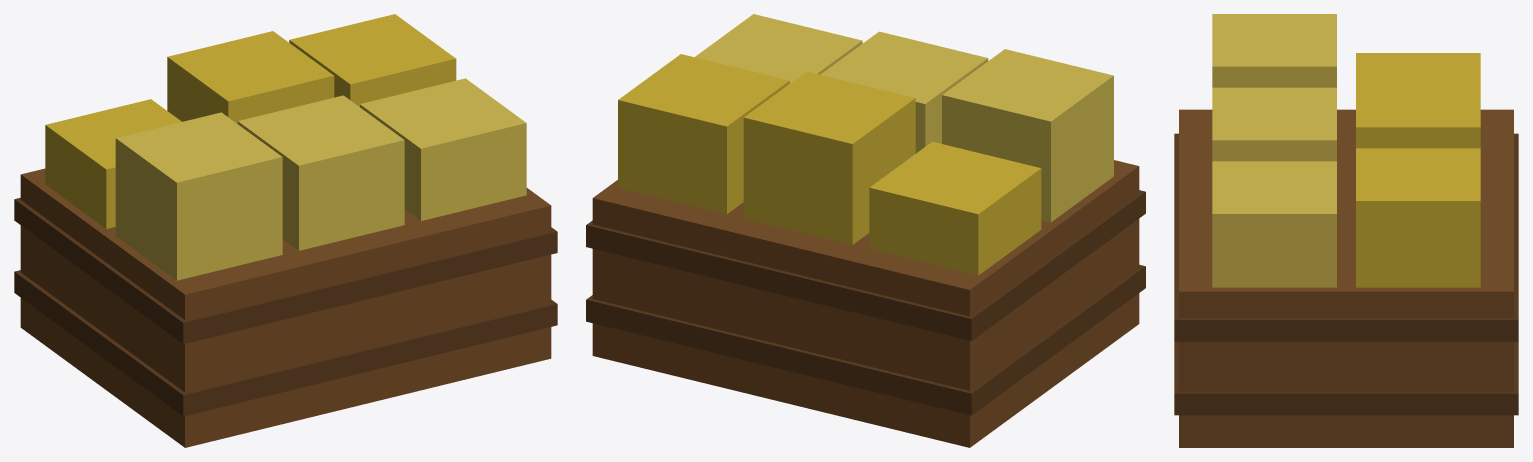
File: cp-crate-lemon.glb
The picture shows the model from 3 angles, left to right: view 1: azimuth 30°, elevation 25°; view 2: azimuth 150°, elevation 25°; view 3: azimuth 270°, elevation 25°; orthographic projection. The views are drawn at different scales.
Visible parts, largest first — view 1: box-prop; view 2: box-prop; view 3: box-prop.
Boxes of the visible parts, bbox=[...] form: box-prop: bbox=[14, 14, 557, 447]; box-prop: bbox=[586, 14, 1145, 447]; box-prop: bbox=[1174, 14, 1518, 447].
Bounding box in the file's own units: 0.92 × 0.59 × 0.72.
